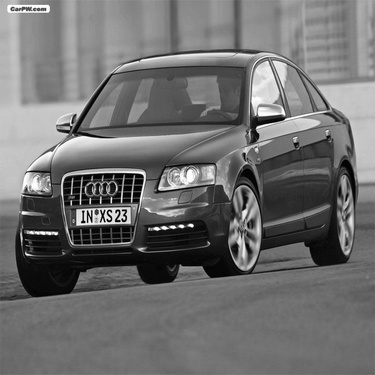car: (10, 38, 363, 295)
